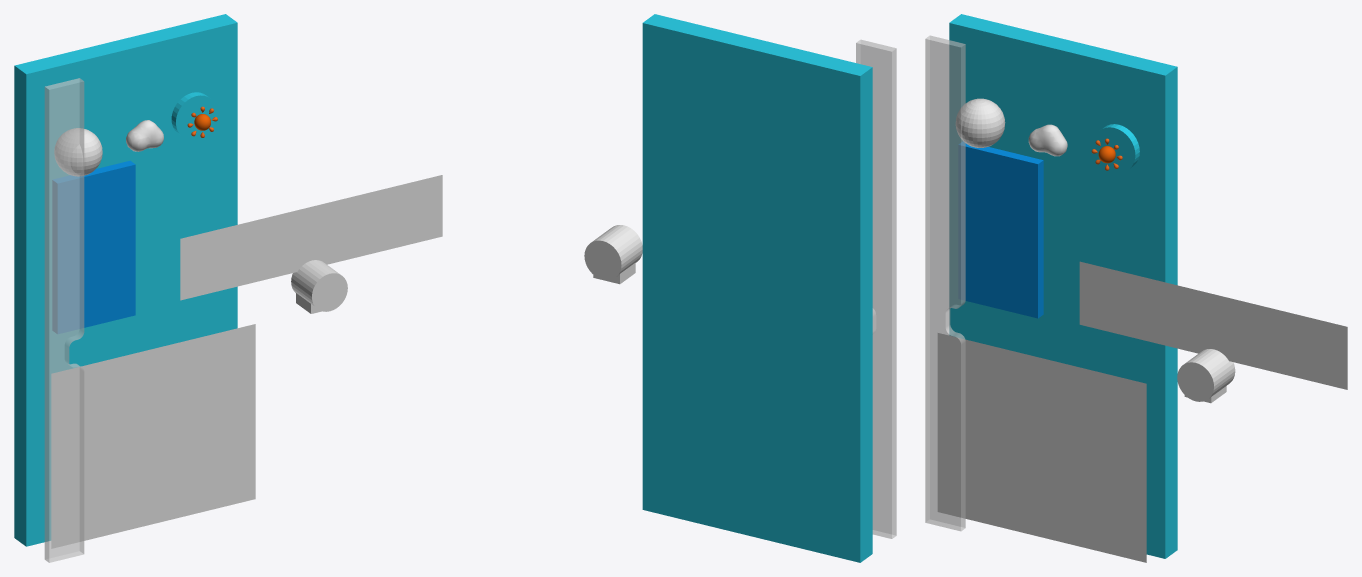
Rendered from lighttest.glb.
3 views of the same model, side by side, from view 1: azimuth 30°, elevation 25°; view 2: azimuth 150°, elevation 25°; view 3: azimuth 330°, elevation 25° (orthographic). The views are drawn at different scales.
Visible parts, largest first — view 1: 背景, 平面.001, 立方体, 平面, block, 柱体.001, 球, 柱体, 融球.003; view 2: 背景, 立方体, 柱体.001; view 3: 背景, 平面.001, 立方体, 平面, block, 柱体.001, 球, 柱体, 融球.003.
Boxes of the visible parts, bbox=[...] form: 背景: bbox=[14, 14, 237, 546]; 平面.001: bbox=[51, 324, 255, 548]; 立方体: bbox=[44, 78, 84, 562]; 平面: bbox=[180, 175, 442, 300]; block: bbox=[52, 160, 135, 333]; 柱体.001: bbox=[291, 260, 347, 311]; 球: bbox=[54, 128, 102, 176]; 柱体: bbox=[171, 92, 216, 139]; 融球.003: bbox=[126, 120, 163, 151]; 背景: bbox=[642, 14, 872, 562]; 立方体: bbox=[856, 39, 896, 538]; 柱体.001: bbox=[584, 225, 642, 280]; 背景: bbox=[949, 14, 1177, 558]; 平面.001: bbox=[938, 333, 1146, 562]; 立方体: bbox=[925, 35, 965, 531]; 平面: bbox=[1079, 261, 1347, 389]; block: bbox=[958, 141, 1043, 318]; 柱体.001: bbox=[1177, 349, 1235, 401]; 球: bbox=[956, 98, 1005, 147]; 柱体: bbox=[1093, 124, 1139, 172]; 融球.003: bbox=[1028, 124, 1067, 156].
Size of the model in its own units: 3.08 by 3.45 by 0.571.
